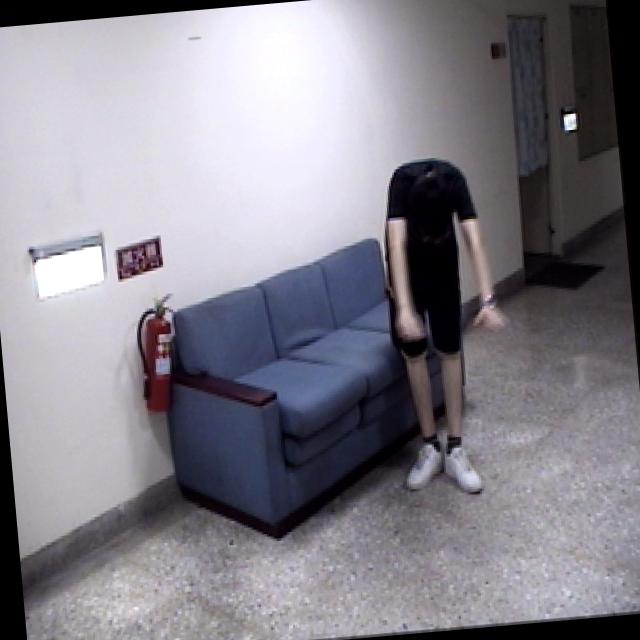bend: (372, 151, 529, 522)
